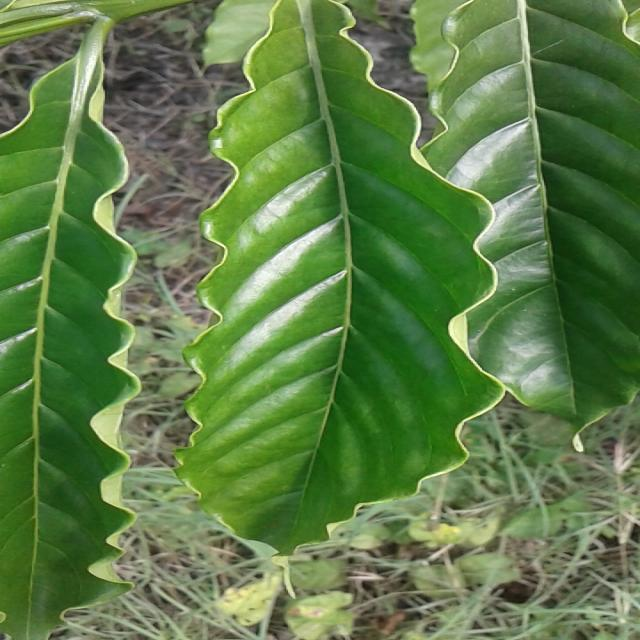Sanas: (176, 0, 504, 557)
